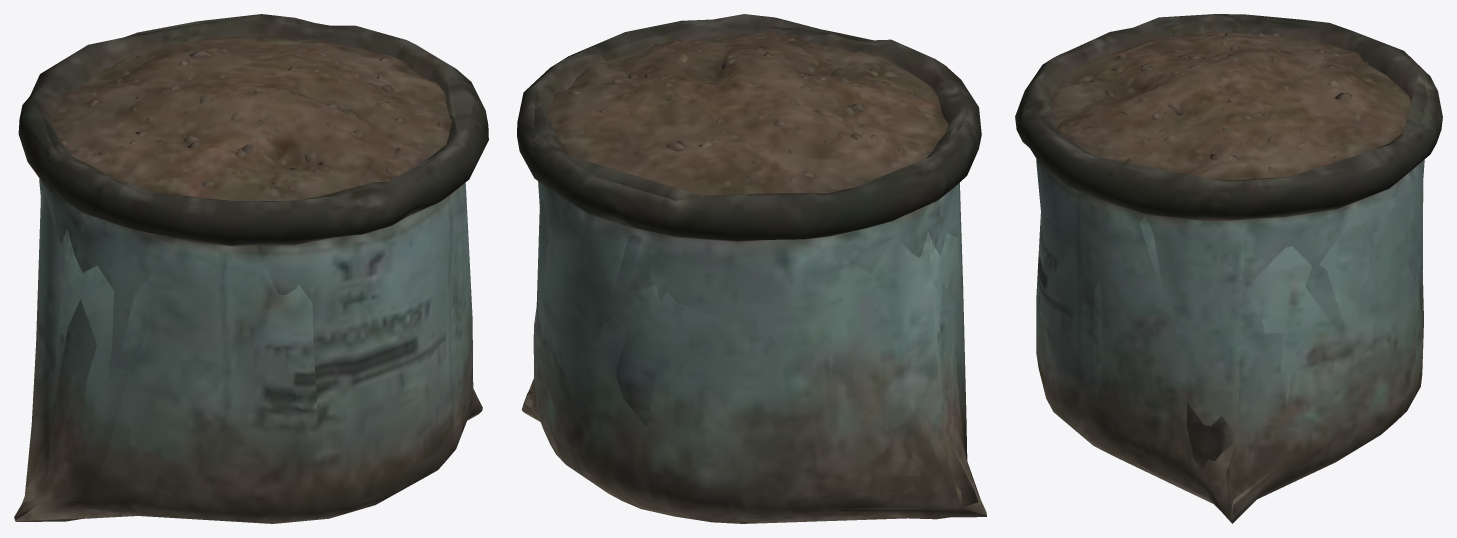
Rendered from compost_bag_02.glb.
3 renders of one model, left to right at view 1: azimuth 30°, elevation 25°; view 2: azimuth 150°, elevation 25°; view 3: azimuth 270°, elevation 25°, orthographic. The views are drawn at different scales.
Parts seen in each view (by area): view 1: compost_bag_02, compost_bag_02_lo; view 2: compost_bag_02, compost_bag_02_lo; view 3: compost_bag_02, compost_bag_02_lo.
Boxes of the visible parts, bbox=[...] form: compost_bag_02: bbox=[14, 14, 488, 523]; compost_bag_02_lo: bbox=[16, 14, 488, 520]; compost_bag_02: bbox=[517, 14, 986, 523]; compost_bag_02_lo: bbox=[517, 24, 980, 523]; compost_bag_02: bbox=[1015, 14, 1442, 523]; compost_bag_02_lo: bbox=[1038, 14, 1435, 518].
Bounding box in the file's own units: 0.5381 × 0.4335 × 0.4705.
1 material, 1 textured.
